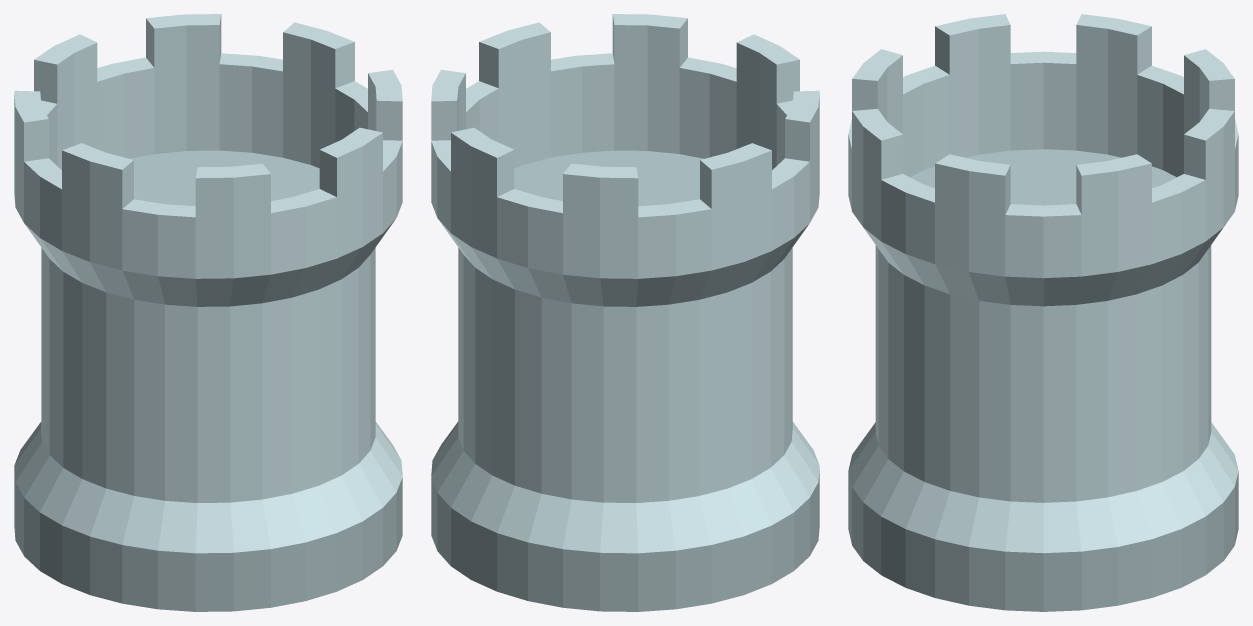
The model's file is Tower_2_Stone.fbx.
The picture shows the model from 3 angles, left to right: view 1: azimuth 30°, elevation 25°; view 2: azimuth 150°, elevation 25°; view 3: azimuth 270°, elevation 25°; orthographic projection.
Visible parts, largest first — view 1: Tower_2_Stone; view 2: Tower_2_Stone; view 3: Tower_2_Stone.
Part boxes in pixels (box(x1,y1,x2,y2)): Tower_2_Stone: box(14, 14, 402, 611); Tower_2_Stone: box(431, 14, 819, 611); Tower_2_Stone: box(848, 14, 1238, 611).
Bounding box in the file's own units: 0.9 × 1.11 × 0.9.
